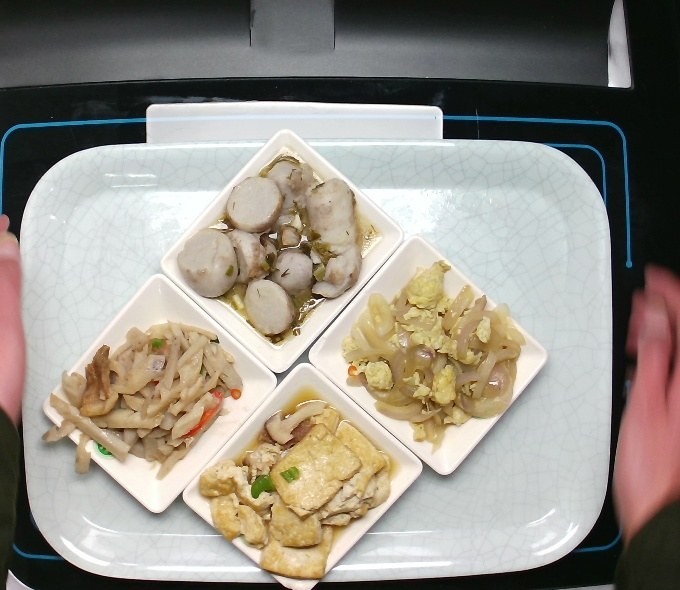wcq-JiaChangDouFu: (195, 396, 396, 586)
wcq-QingChaoOuPian: (36, 316, 249, 485)
wcq-YangCongChaoDan: (339, 256, 531, 454)
wcq-YangYu: (173, 151, 371, 346)
